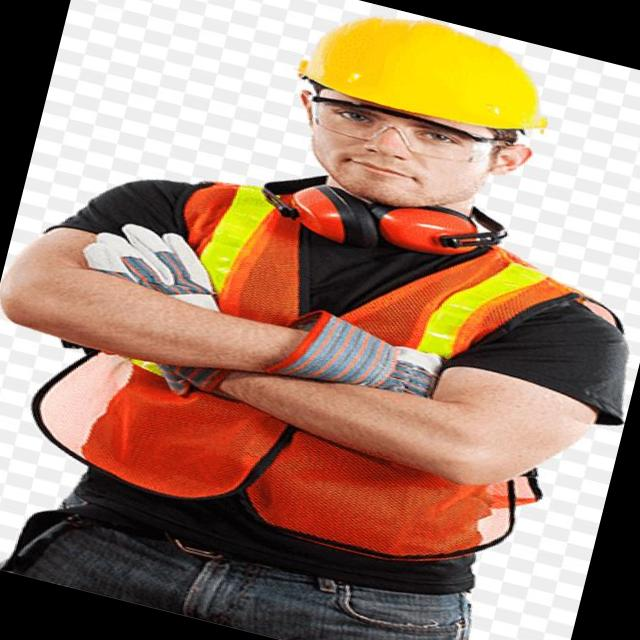Gloves: (58, 202, 222, 330), (281, 312, 464, 414)
Helmet: (299, 0, 559, 147)
Vest: (115, 168, 542, 580)
